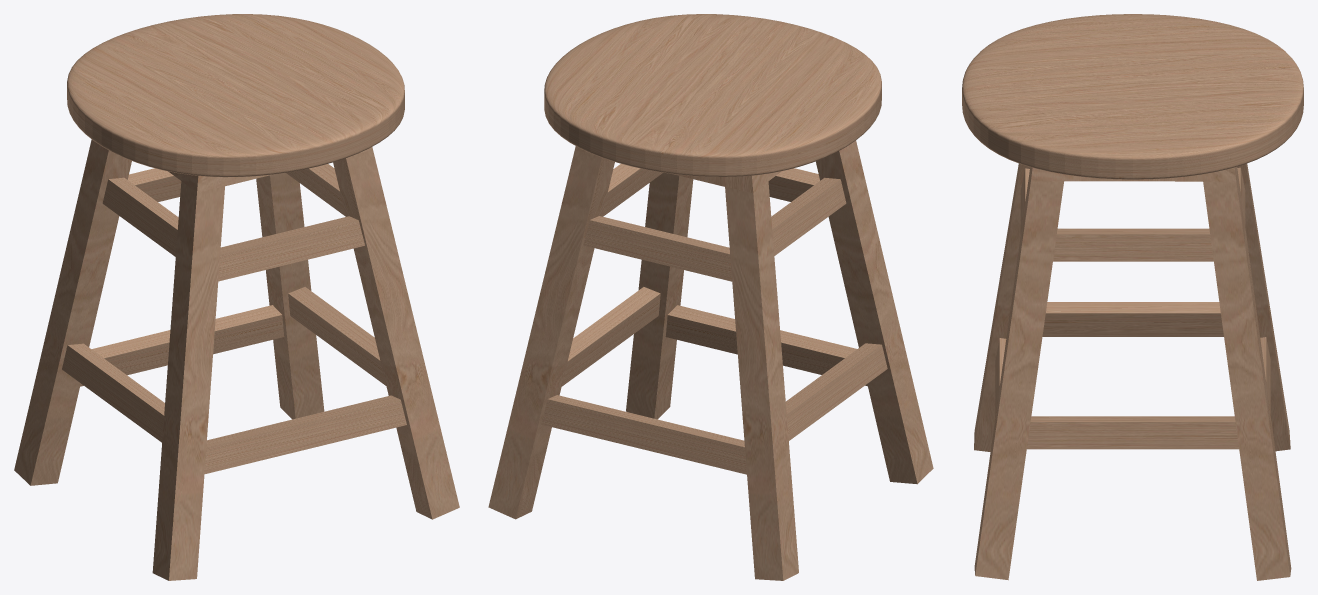
The model's file is wooden_stool.gltf.
3 views of the same model, side by side, from view 1: azimuth 30°, elevation 25°; view 2: azimuth 150°, elevation 25°; view 3: azimuth 270°, elevation 25° (orthographic). The views are drawn at different scales.
Parts seen in each view (by area): view 1: legs, seat, low_connector, low_connector2, high_connector2, high_connector; view 2: legs, seat, low_connector, low_connector2, high_connector2, high_connector; view 3: seat, legs, low_connector2, high_connector, low_connector, high_connector2.
Part boxes in pixels (box(x1,y1,x2,y2)): legs: box(14, 139, 459, 580); seat: box(67, 14, 404, 177); low_connector: box(80, 305, 406, 473); low_connector2: box(62, 287, 386, 442); high_connector2: box(127, 168, 364, 281); high_connector: box(102, 164, 345, 256); legs: box(488, 140, 933, 580); seat: box(544, 14, 881, 176); low_connector: box(541, 305, 867, 474); low_connector2: box(561, 287, 887, 440); high_connector2: box(583, 168, 819, 281); high_connector: box(602, 163, 846, 255); seat: box(962, 14, 1303, 179); legs: box(974, 163, 1291, 580); low_connector2: box(1027, 302, 1238, 449); high_connector: box(1053, 228, 1213, 261); low_connector: box(995, 337, 1270, 416); high_connector2: box(1020, 167, 1245, 234).
Size of the model in its own units: 0.4906 by 0.6645 by 0.4772.
1 material, 1 textured.
